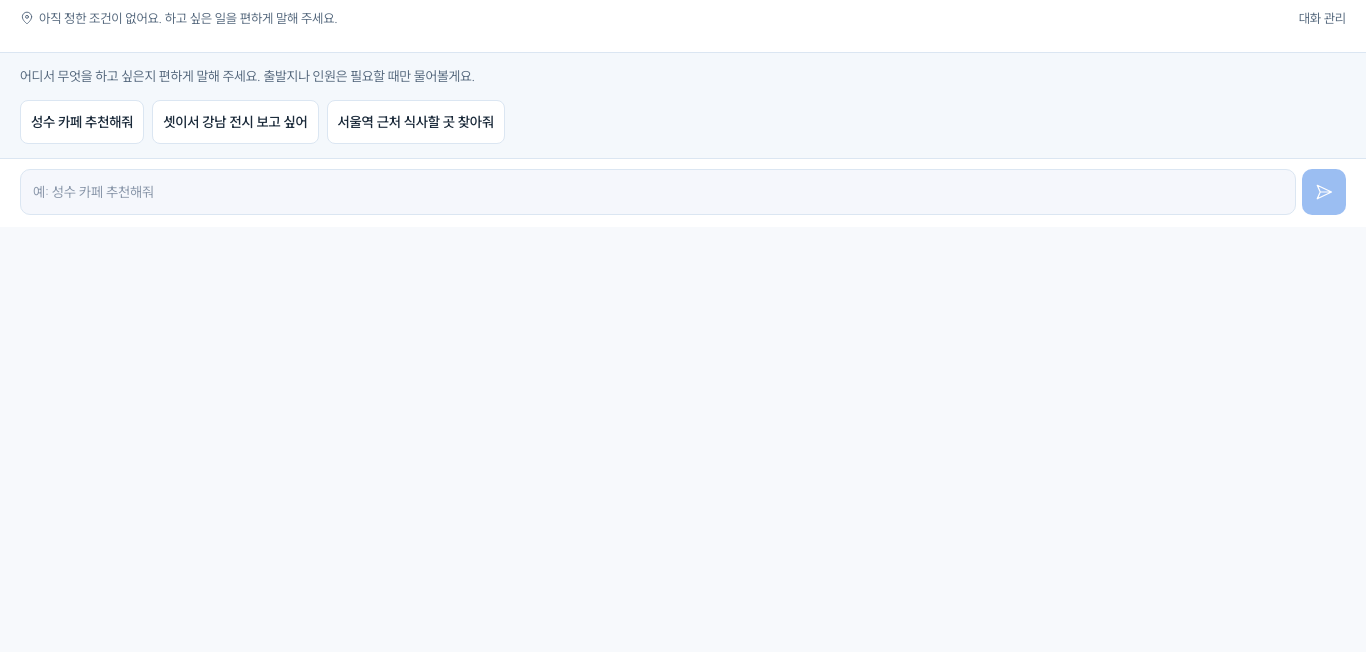
Test case: ChatPanel › UI-03 이번만 적용한 조건은 카드에 표시하고 현재 조건은 바꾸지 않는다
This screenshot has width=1366, height=652.
In the field named "AI에게 보낼 메시지": coordinates (658, 192) 20,169 -> 1296,215, type "성수 카페 추천해줘"
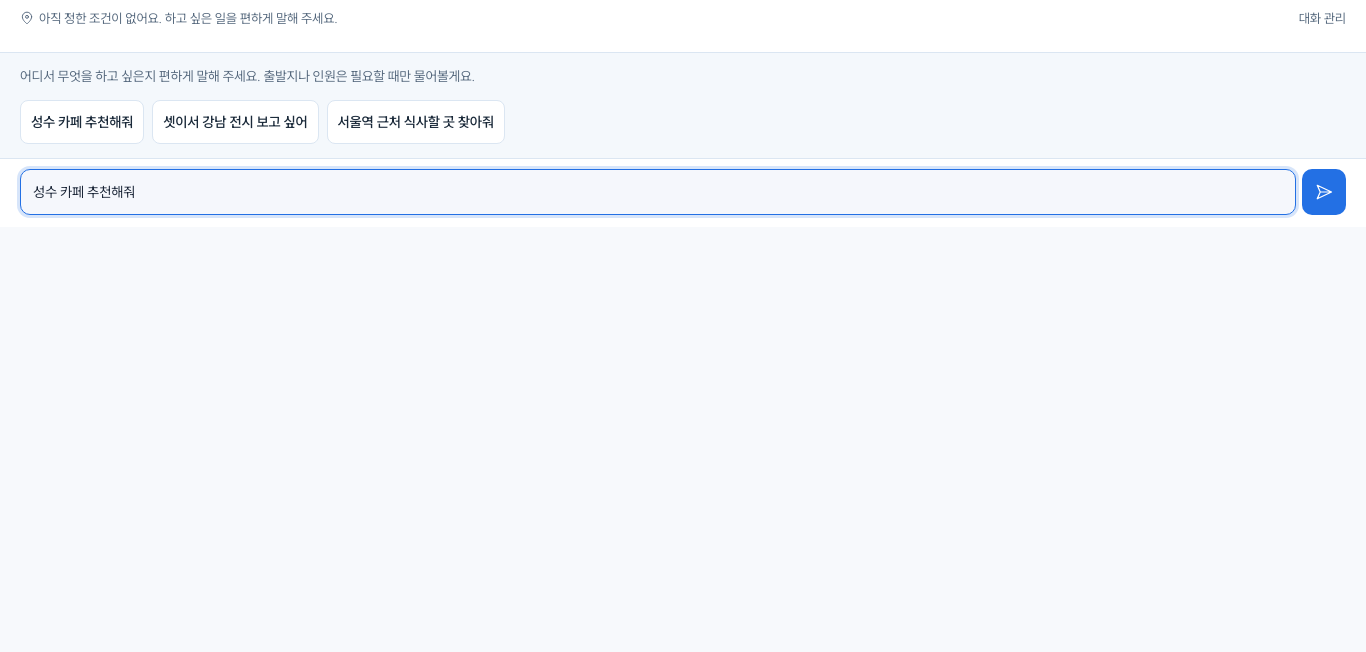
Click the button named "보내기": coordinates (1324, 192) 1302,169 -> 1346,215
(page scrolled)
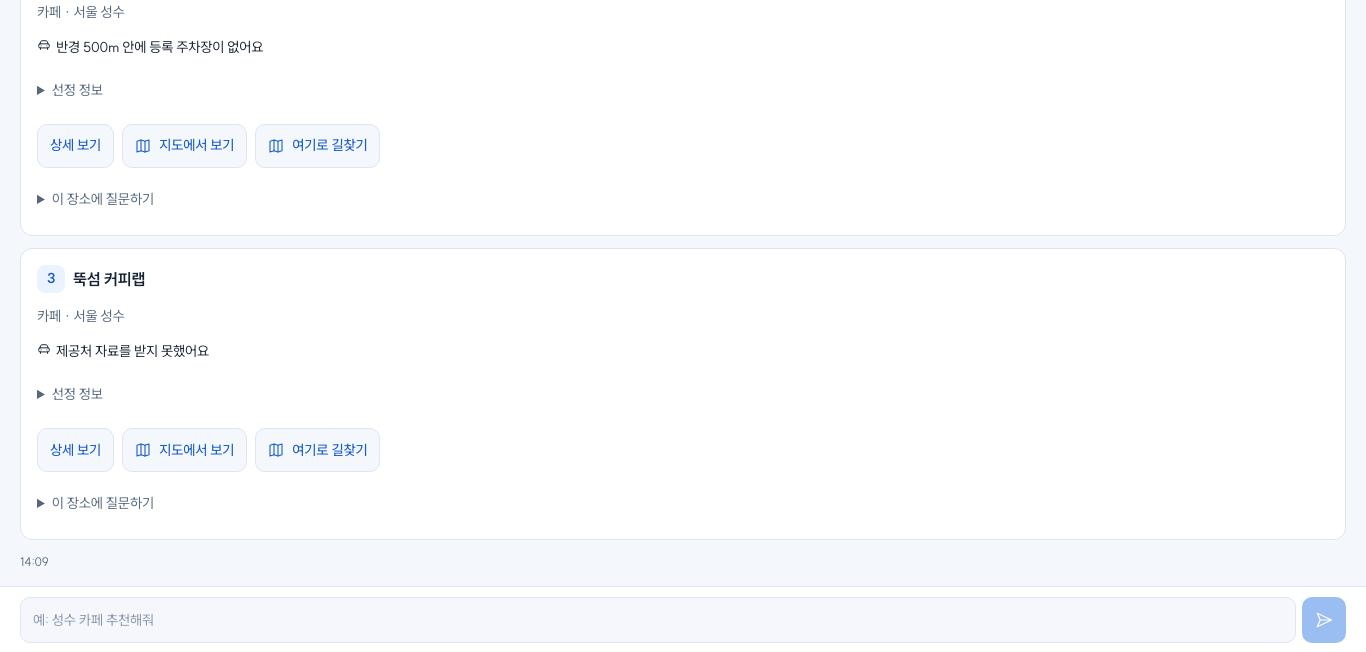
In the field named "AI에게 보낼 메시지": coordinates (658, 620) 20,597 -> 1296,643, type "이번만 20분 안으로 카페 추천"
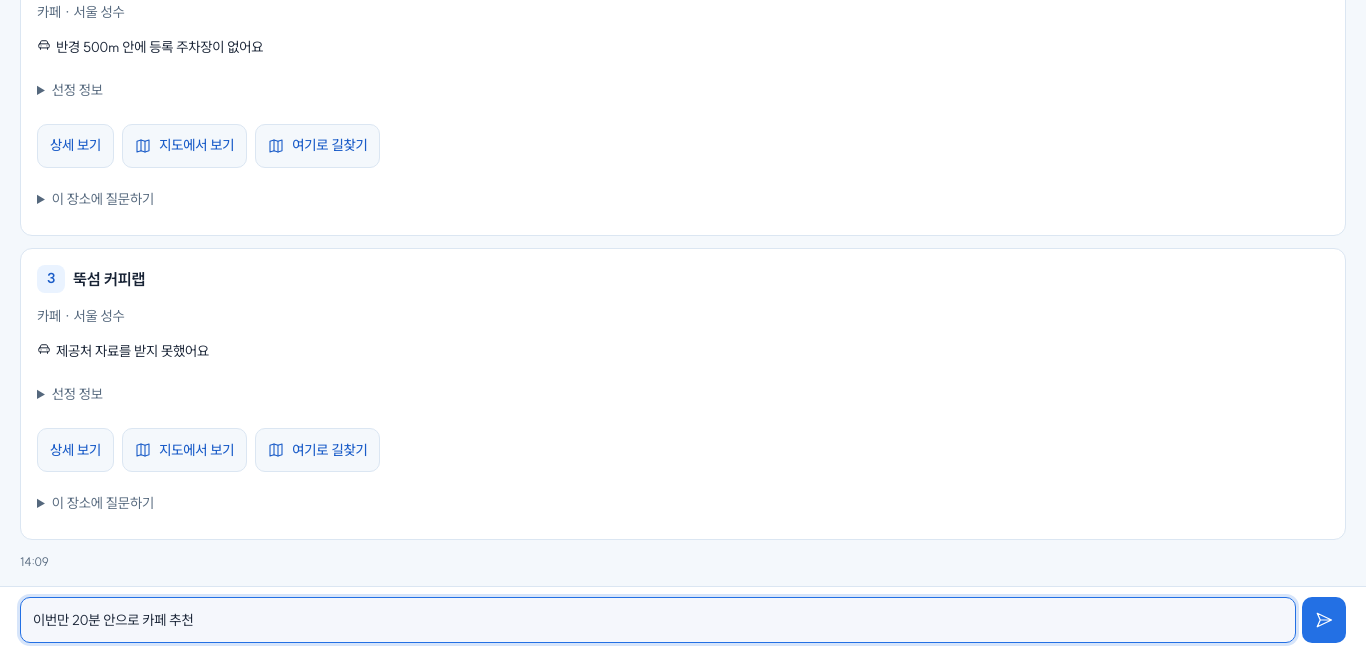
Click the button named "보내기": coordinates (1324, 620) 1302,597 -> 1346,643
(page scrolled)
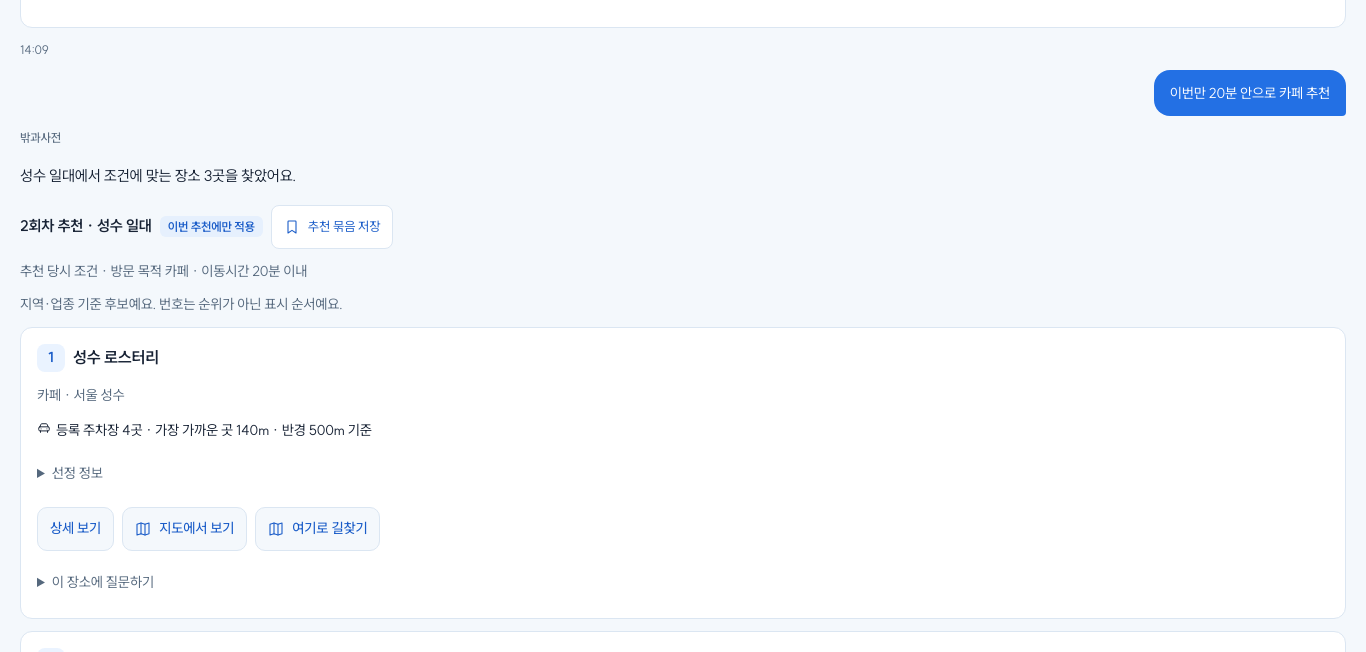
Expected: the text "이번 추천에만 적용" is shown, 160,216 -> 263,237
Expected: the text "추천 당시 조건 · 방문 목적 카페 · 이동시간 20분 이내" is shown, 20,262 -> 307,280
